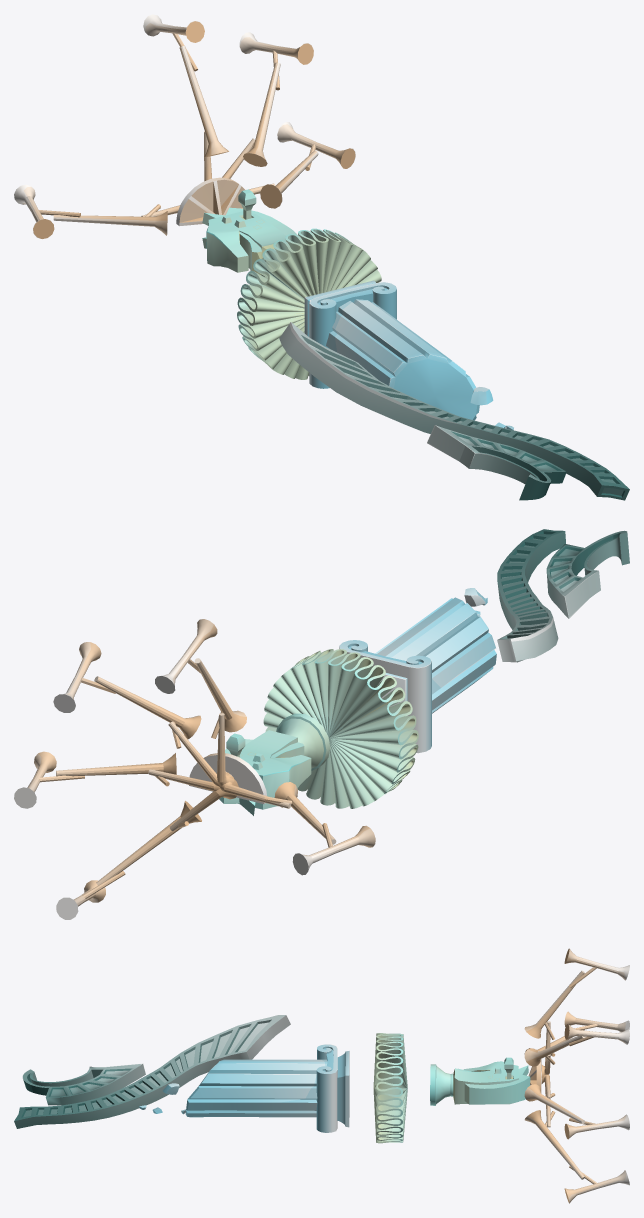
The model's file is Arm_Integrity_A.fbx.
The picture shows the model from 3 angles, top to bottom: view 1: azimuth 30°, elevation 25°; view 2: azimuth 150°, elevation 25°; view 3: azimuth 270°, elevation 25°; orthographic projection. The views are drawn at different scales.
Parts seen in each view (by area): view 1: Lattice, Pillar, Flower, Controller, finger_2, finger_1, finger_4, Palm, finger_3; view 2: Flower, Pillar, Lattice, Controller, finger_2, finger_3, finger_1, finger_4, finger_5, Palm; view 3: Lattice, Pillar, Controller, Flower, finger_1, finger_5, finger_3, finger_2, finger_4.
Boxes of the visible parts, <box> form: Lattice: <box>279,322,629,500</box>; Pillar: <box>304,280,513,430</box>; Flower: <box>237,228,381,379</box>; Controller: <box>202,189,296,278</box>; finger_2: <box>222,32,313,178</box>; finger_1: <box>143,14,228,181</box>; finger_4: <box>14,184,180,238</box>; Palm: <box>176,177,245,226</box>; finger_3: <box>249,122,355,208</box>; Flower: <box>263,649,418,808</box>; Pillar: <box>339,588,496,753</box>; Lattice: <box>497,529,629,662</box>; Controller: <box>219,713,330,815</box>; finger_2: <box>53,642,233,786</box>; finger_3: <box>14,751,224,808</box>; finger_1: <box>155,619,246,786</box>; finger_4: <box>220,779,375,875</box>; finger_5: <box>56,779,238,919</box>; Palm: <box>189,753,266,804</box>; Lattice: <box>14,1015,290,1128</box>; Pillar: <box>139,1044,349,1132</box>; Controller: <box>430,1057,530,1105</box>; Flower: <box>373,1033,407,1143</box>; finger_1: <box>524,948,629,1077</box>; finger_5: <box>524,1081,629,1203</box>; finger_3: <box>524,1074,629,1139</box>; finger_2: <box>524,1024,629,1077</box>; finger_4: <box>524,1011,629,1073</box>.
Bounding box in the file's own units: 32.66 × 28.42 × 73.47.
